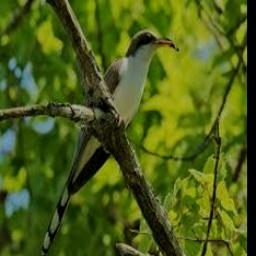Cuckoo: (42, 29, 175, 254)
